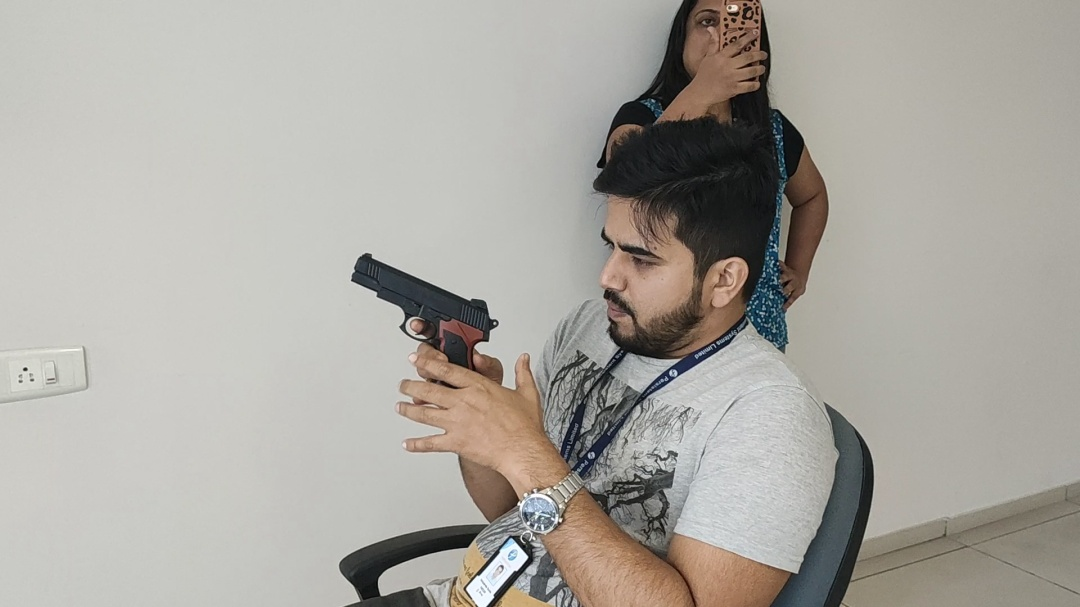gun: (385, 64, 738, 552)
